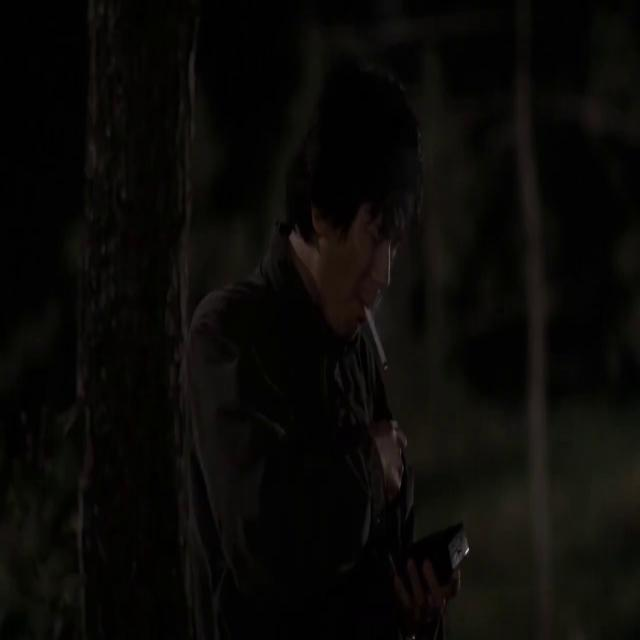Smooking: (365, 305, 394, 379)
